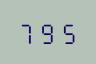five: (57, 20, 75, 44)
nine: (38, 20, 56, 44)
seven: (18, 20, 36, 44)
